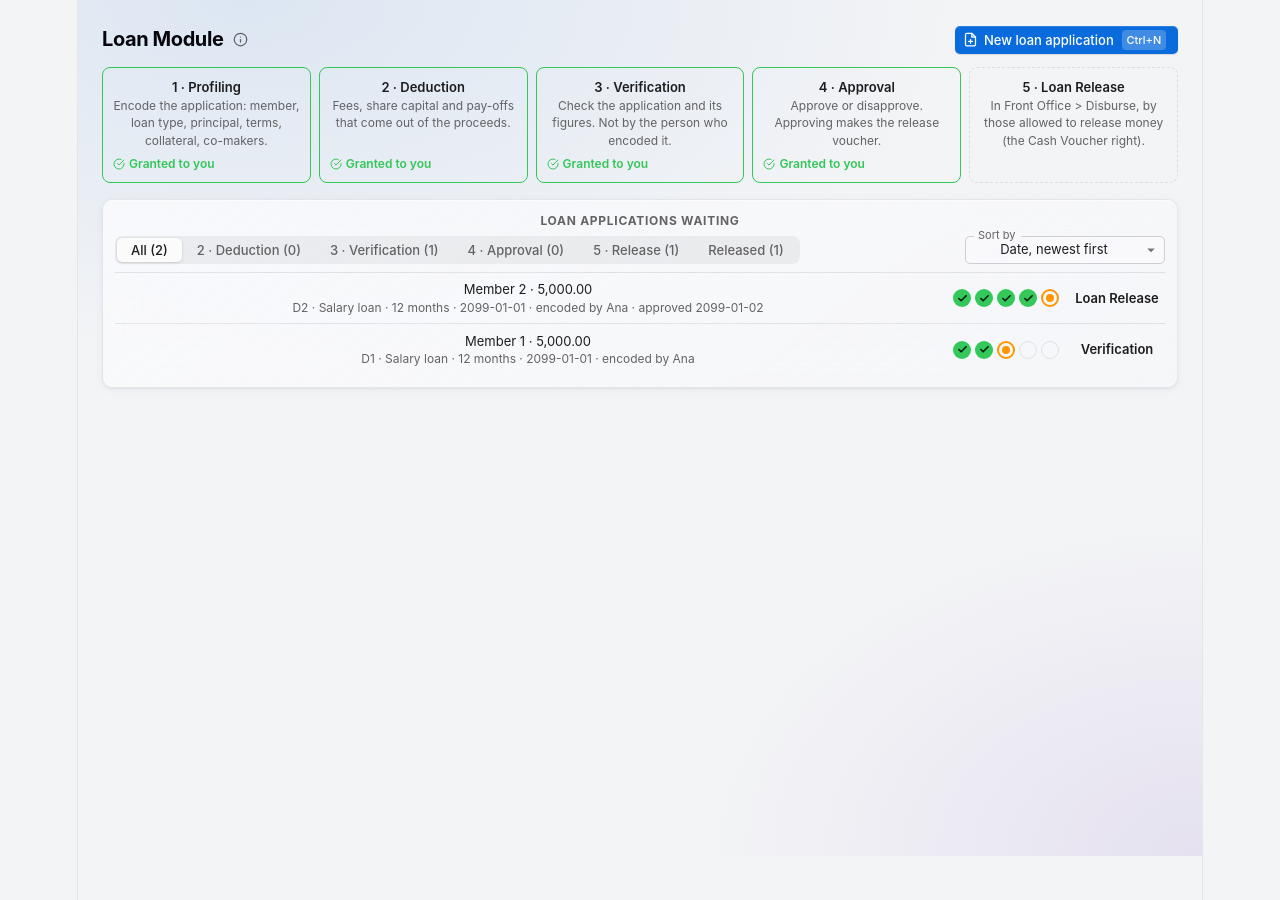
Test case: Loan Module › lists approved applications at 5 · Release and released ones apart, with their own step buttons
Expected: the button "All (2)" is shown, [117, 238, 182, 262]
Expected: the text "Member 3 ·" is not shown
What coordinates should you click on to do the following:
click the button "5 · Release (1)"
I would click on:
 (636, 250)
Its box is [579, 238, 693, 262].
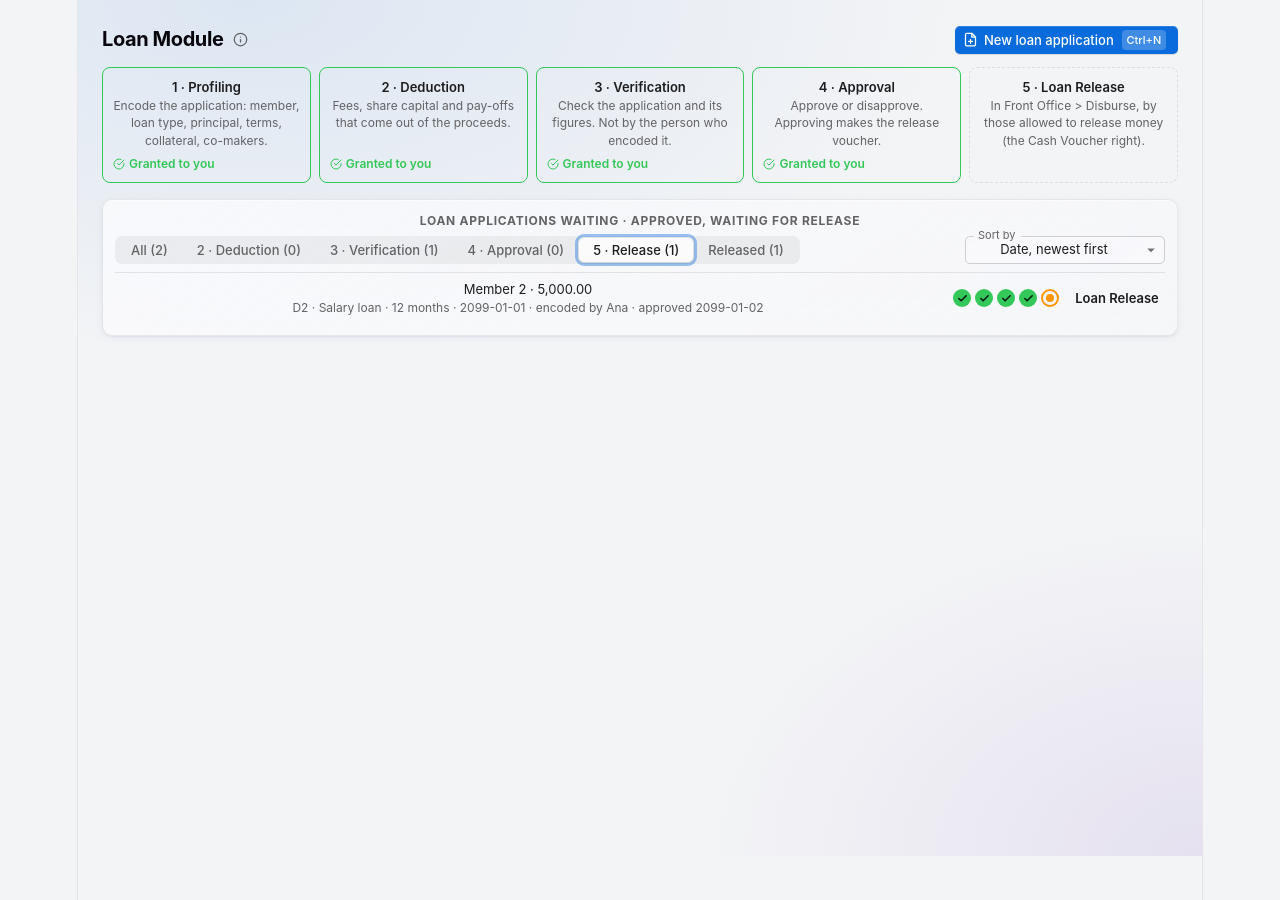
Expected: the text "Member 2 · 5,000.00" is shown, [464, 281, 592, 297]
Result: the button "Member 1 ·" is gone
What coordinates should you click on to do the following:
click the button "Released (1)"
I would click on:
 (746, 250)
Its box is [694, 238, 798, 262].
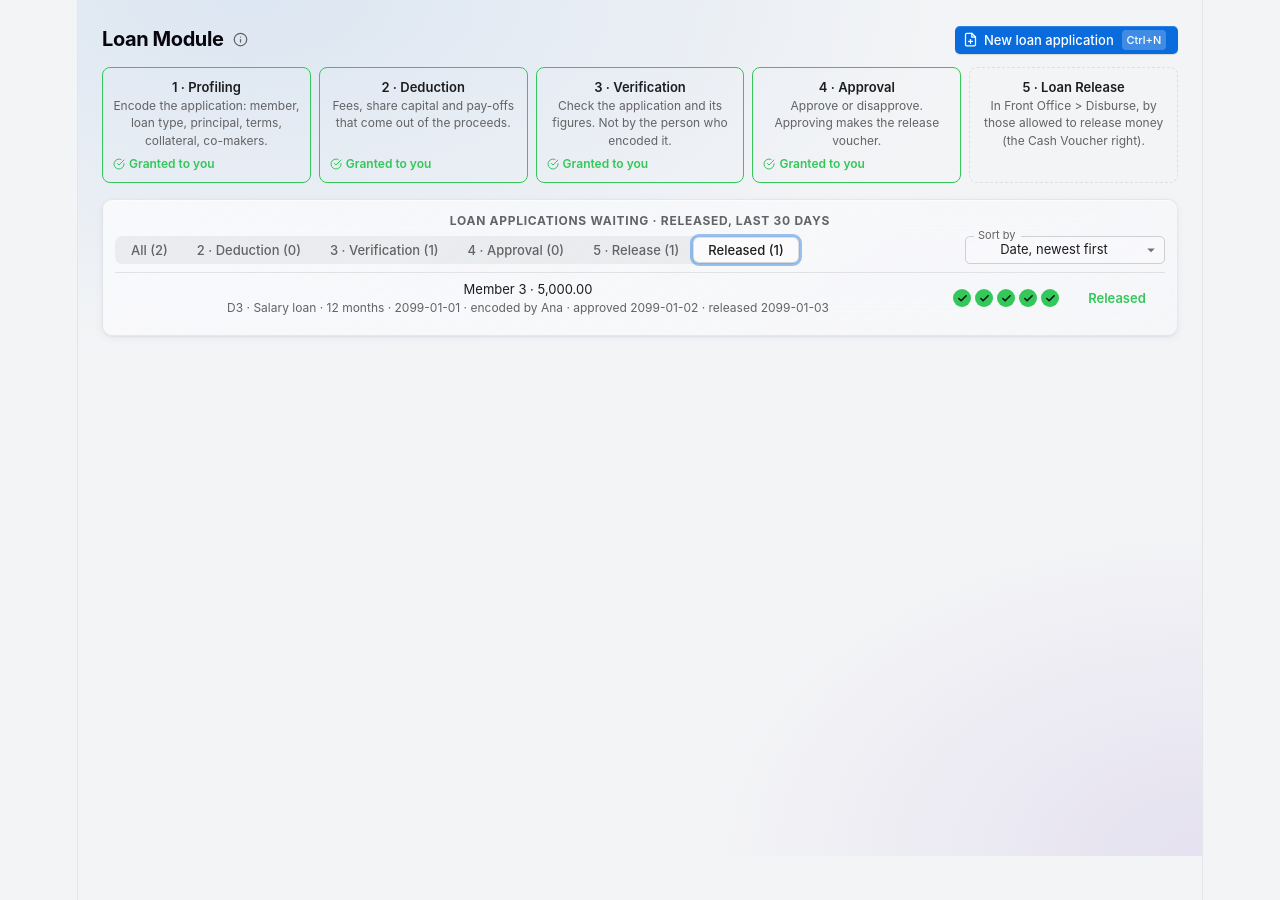
Result: the text "Member 3 · 5,000.00" is shown at [464, 281, 592, 297]
Result: the text "released 2099-01-03" is shown at [698, 300, 829, 315]
Result: the picture named "Released on 2099-01-03. All 5 steps done." is shown at [953, 289, 1165, 308]
